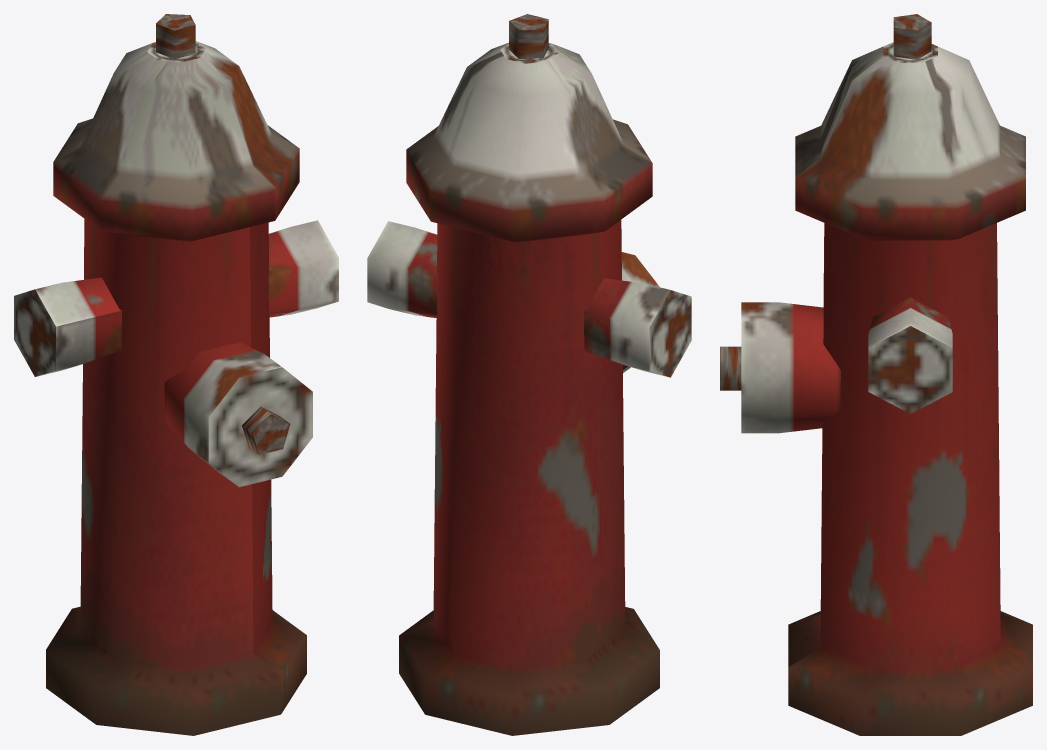
Rendered from fire_hydrant.obj.
The picture shows the model from 3 angles, left to right: view 1: azimuth 30°, elevation 25°; view 2: azimuth 150°, elevation 25°; view 3: azimuth 270°, elevation 25°; orthographic projection.
Parts seen in each view (by area): view 1: fire_hydrant; view 2: fire_hydrant; view 3: fire_hydrant.
Part boxes in pixels (x1,y1,x2,y2): fire_hydrant: (14, 14, 338, 735); fire_hydrant: (367, 14, 691, 735); fire_hydrant: (720, 14, 1032, 735).
Bounding box in the file's own units: 0.31 × 0.69 × 0.2955.
Materials: 1 (1 with a texture image).
